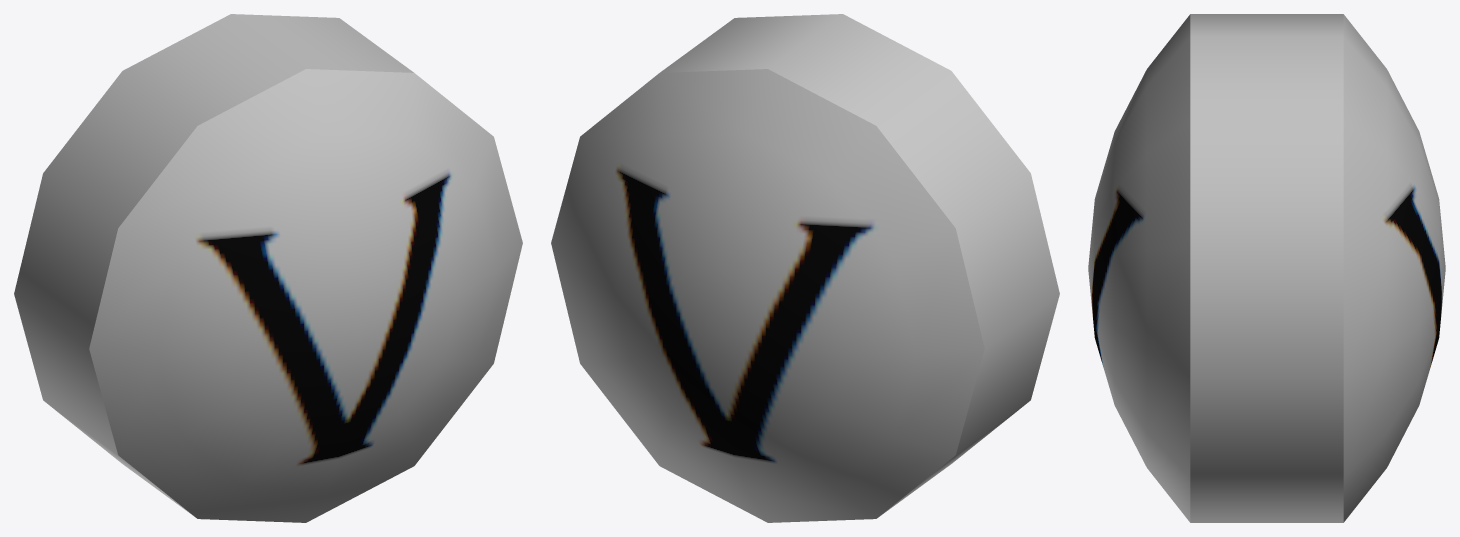
Rendered from Valium.FBX.
The picture shows the model from 3 angles, left to right: view 1: azimuth 30°, elevation 25°; view 2: azimuth 150°, elevation 25°; view 3: azimuth 270°, elevation 25°; orthographic projection.
Visible parts, largest first — view 1: Valium; view 2: Valium; view 3: Valium.
Part boxes in pixels (bbox=[...]): Valium: bbox=[14, 14, 522, 522]; Valium: bbox=[551, 14, 1059, 522]; Valium: bbox=[1088, 14, 1445, 522].
Bounding box in the file's own units: 1.82 × 1.82 × 1.27.
Materials: 1 (1 with a texture image).
